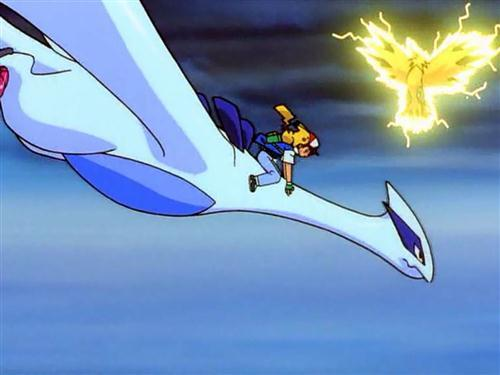lugia: (373, 181, 437, 283)
